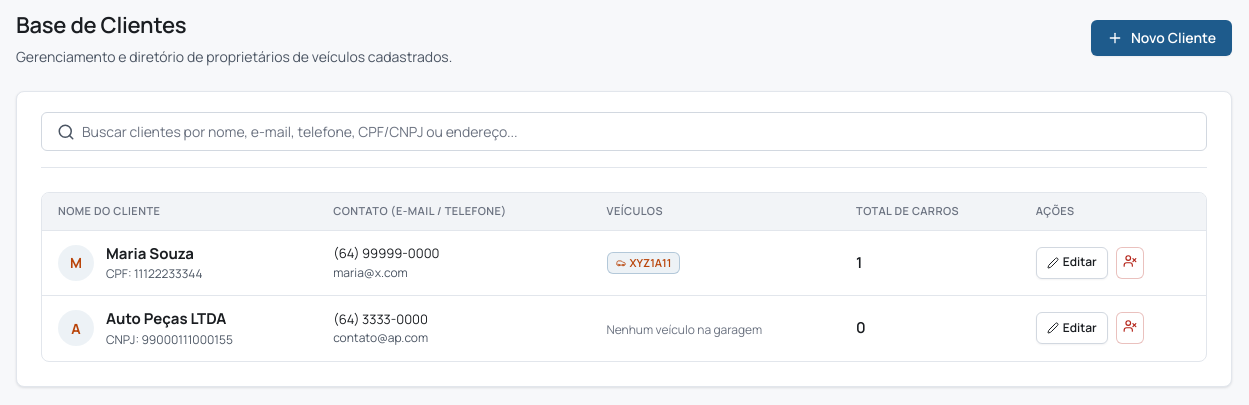
Test: Tela de Clientes › filtra pela busca
Step 1. Replace the text in the field with placeholder "Buscar clientes" with "maria" → (624, 132), box x1=41 y1=112 x2=1207 y2=151
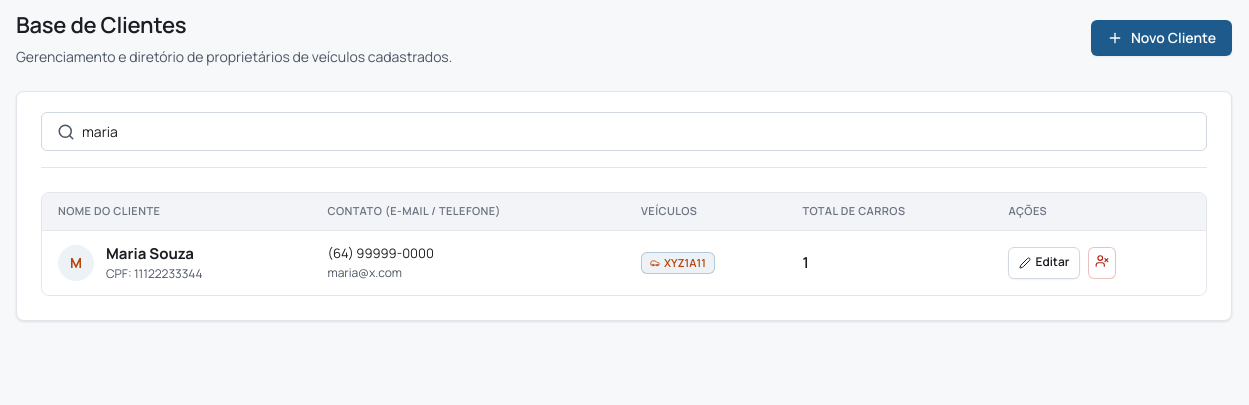
Expected: the text "Maria Souza" is shown, x1=106 y1=242 x2=194 y2=264
Expected: the text "Auto Peças LTDA" is gone
